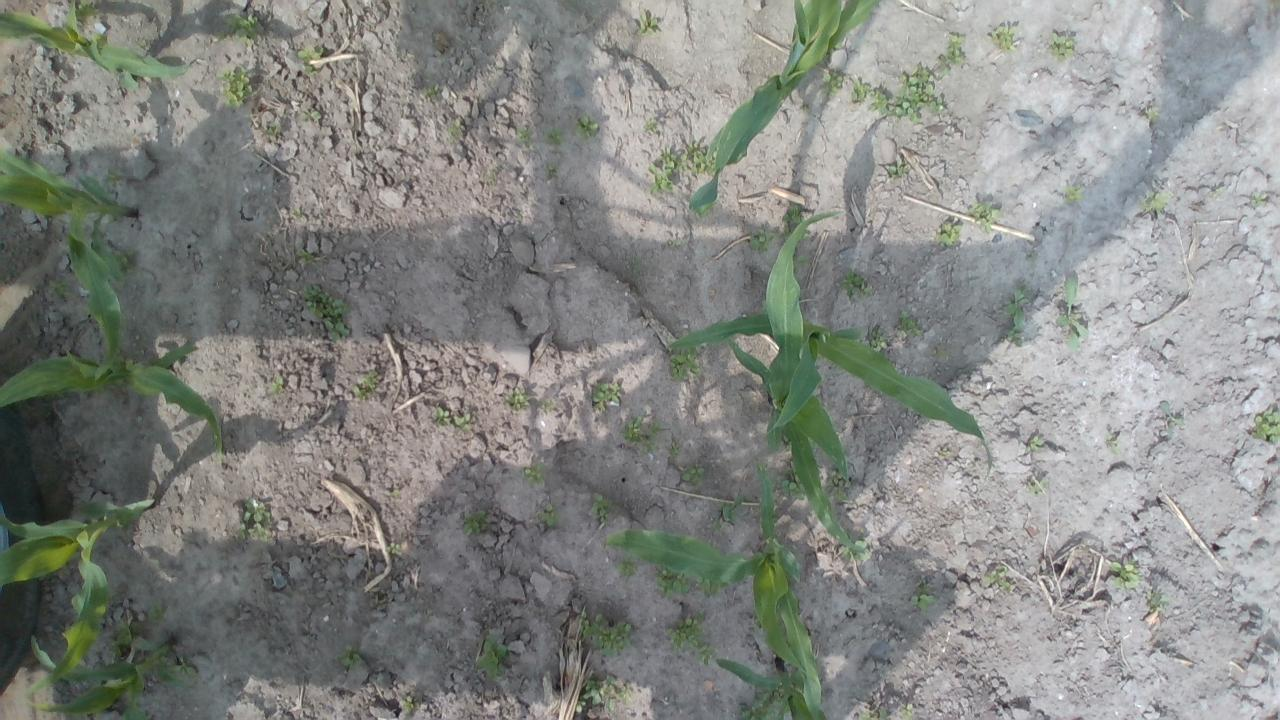Maize: (603, 466, 824, 720), (666, 310, 991, 481), (728, 209, 862, 554), (689, 0, 880, 213), (0, 146, 135, 380), (0, 498, 156, 699), (0, 342, 222, 465), (0, 0, 192, 93), (30, 634, 171, 720), (716, 652, 828, 720)
Weeds: (870, 64, 946, 126), (648, 142, 716, 193), (579, 606, 639, 657), (302, 282, 352, 341), (666, 608, 718, 664), (1056, 271, 1090, 352), (574, 674, 634, 714), (236, 493, 276, 543), (216, 61, 256, 108), (474, 628, 508, 682), (152, 650, 198, 689), (622, 414, 664, 454), (738, 685, 782, 720), (217, 14, 260, 48), (769, 467, 810, 502), (711, 494, 745, 534), (655, 563, 691, 599), (1006, 286, 1028, 344), (966, 198, 1000, 234), (116, 622, 156, 652), (670, 347, 704, 382), (1251, 406, 1280, 447), (939, 32, 966, 76), (434, 404, 476, 432), (1109, 558, 1143, 590), (840, 270, 876, 300), (1158, 400, 1184, 440), (782, 204, 810, 241), (1048, 30, 1079, 63), (911, 584, 942, 616), (986, 22, 1018, 52), (894, 308, 923, 338), (750, 224, 779, 254), (350, 371, 380, 400), (297, 46, 325, 76), (844, 530, 871, 561), (983, 566, 1015, 592), (592, 382, 621, 410), (637, 8, 664, 38), (820, 70, 847, 99), (935, 223, 963, 249), (680, 462, 706, 489), (46, 274, 74, 299), (574, 111, 598, 140), (333, 644, 362, 668), (462, 510, 490, 534), (696, 574, 729, 594), (1143, 190, 1170, 214), (850, 78, 874, 105), (114, 245, 136, 274), (608, 554, 638, 575), (867, 326, 891, 352), (536, 502, 560, 528), (503, 386, 529, 410), (102, 165, 128, 188), (590, 494, 608, 526), (522, 463, 546, 487), (1148, 591, 1170, 614), (147, 598, 165, 625), (1102, 432, 1122, 456), (542, 126, 564, 146), (294, 245, 314, 266), (887, 158, 908, 178), (447, 118, 465, 140), (791, 253, 810, 273), (1062, 185, 1082, 204), (76, 0, 97, 18), (858, 708, 889, 720), (1028, 478, 1048, 496), (1024, 434, 1044, 452), (641, 117, 658, 136), (400, 694, 416, 714), (898, 702, 915, 720), (828, 489, 848, 504), (422, 82, 442, 97), (1250, 190, 1267, 207), (264, 122, 282, 138), (269, 376, 285, 393), (516, 126, 531, 144), (537, 398, 556, 412), (827, 470, 843, 486), (302, 110, 320, 124), (385, 542, 402, 556), (934, 446, 952, 459), (630, 255, 642, 274), (1144, 106, 1160, 120), (544, 163, 560, 176), (754, 462, 769, 472), (666, 240, 684, 248), (1268, 0, 1280, 11), (932, 348, 944, 359), (669, 446, 682, 456), (152, 558, 162, 568), (1214, 185, 1224, 194)
